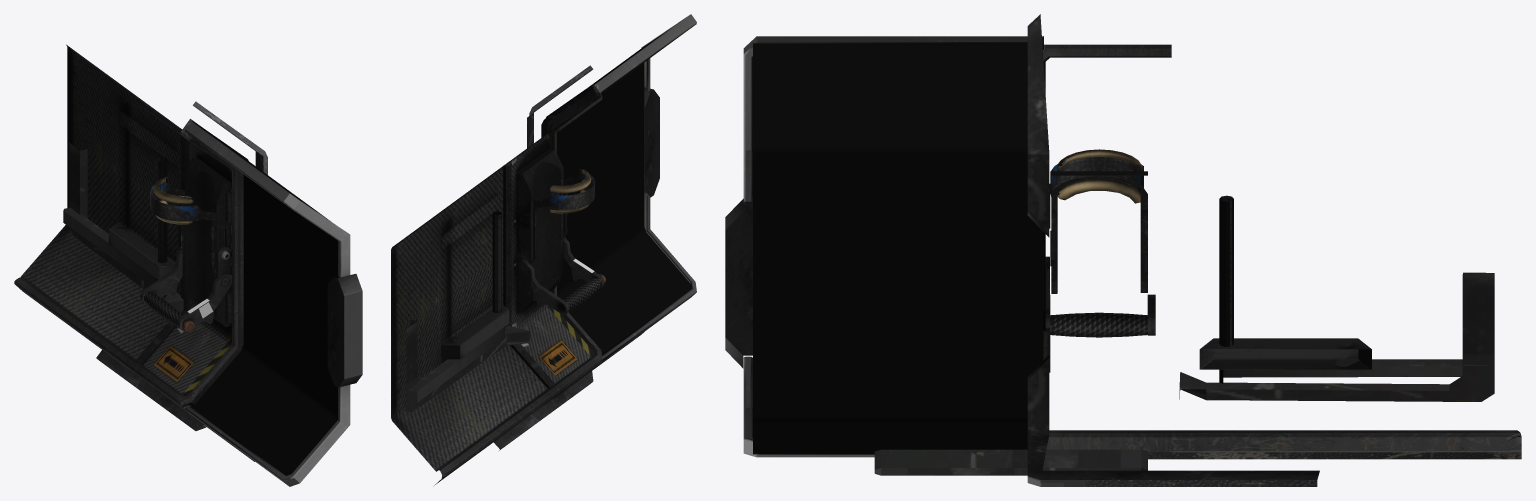
File: t6_wpn_shield_view_red_LOD0.obj
3 renders of one model, left to right at view 1: azimuth 30°, elevation 25°; view 2: azimuth 150°, elevation 25°; view 3: azimuth 270°, elevation 25°, orthographic. The views are drawn at different scales.
Parts seen in each view (by area): view 1: mtl_t6_wpn_shield_red, mtl_t6_wpn_shield_glass_sortfx, mtl_t6_wpn_shield_camo1_red, mtl_t6_wpn_shield_camo3_red; view 2: mtl_t6_wpn_shield_red, mtl_t6_wpn_shield_glass_sortfx, mtl_t6_wpn_shield_camo1_red, mtl_t6_wpn_shield_camo3_red; view 3: mtl_t6_wpn_shield_glass_sortfx, mtl_t6_wpn_shield_red, mtl_t6_wpn_shield_camo1_red, mtl_t6_wpn_shield_camo3_red.
Boxes of the visible parts, bbox=[...] form: mtl_t6_wpn_shield_red: bbox=[20, 44, 362, 486]; mtl_t6_wpn_shield_glass_sortfx: bbox=[191, 138, 339, 475]; mtl_t6_wpn_shield_camo1_red: bbox=[14, 99, 267, 430]; mtl_t6_wpn_shield_camo3_red: bbox=[144, 185, 227, 329]; mtl_t6_wpn_shield_red: bbox=[391, 14, 696, 471]; mtl_t6_wpn_shield_glass_sortfx: bbox=[541, 28, 691, 354]; mtl_t6_wpn_shield_camo1_red: bbox=[433, 65, 602, 486]; mtl_t6_wpn_shield_camo3_red: bbox=[559, 174, 605, 311]; mtl_t6_wpn_shield_glass_sortfx: bbox=[753, 43, 1042, 454]; mtl_t6_wpn_shield_red: bbox=[725, 36, 1494, 475]; mtl_t6_wpn_shield_camo1_red: bbox=[1027, 14, 1521, 486]; mtl_t6_wpn_shield_camo3_red: bbox=[1050, 157, 1147, 337].
Bounding box in the file's own units: 24.41 × 86.96 × 133.
